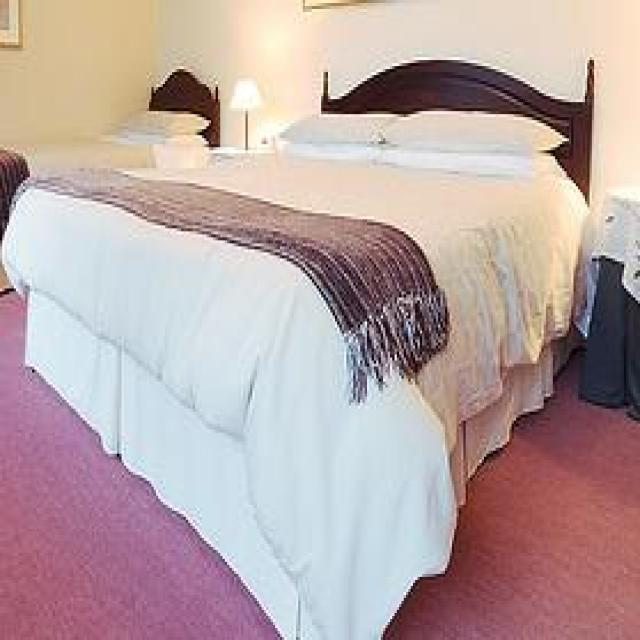bed: (0, 54, 596, 637)
